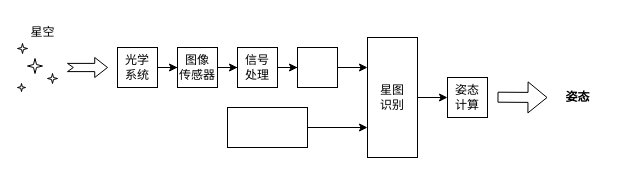
Image size: 620x175. Some labels were removed from this diagram. Here are the shapes that lost their labels. From the top down, the centre of each, then its label:
At [317,67]: "星点 提取".
At [267,127]: "导航 星库".
